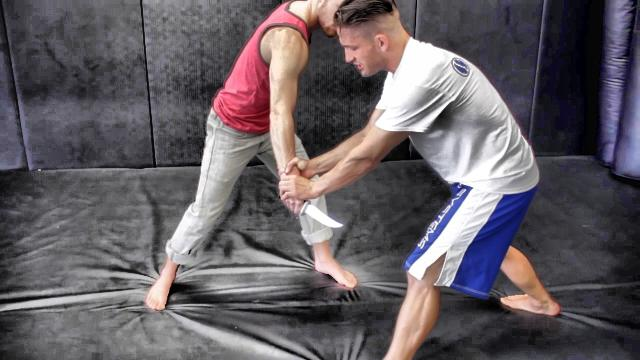knife: (281, 198, 347, 230)
